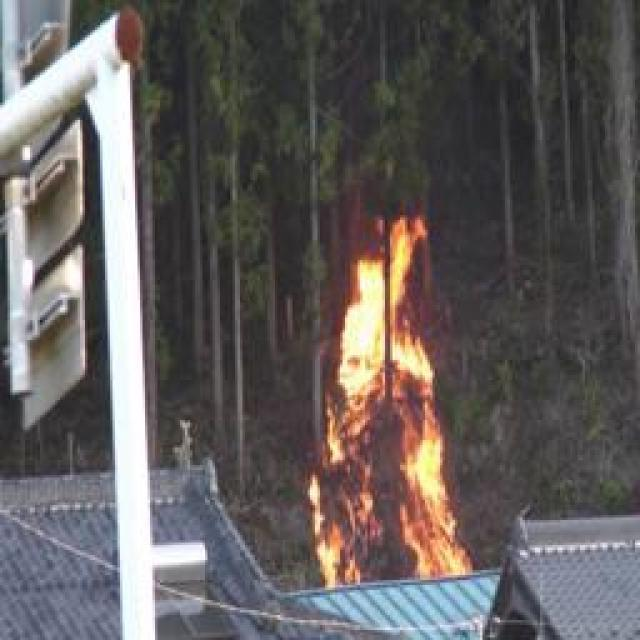Fire: (311, 226, 463, 584)
